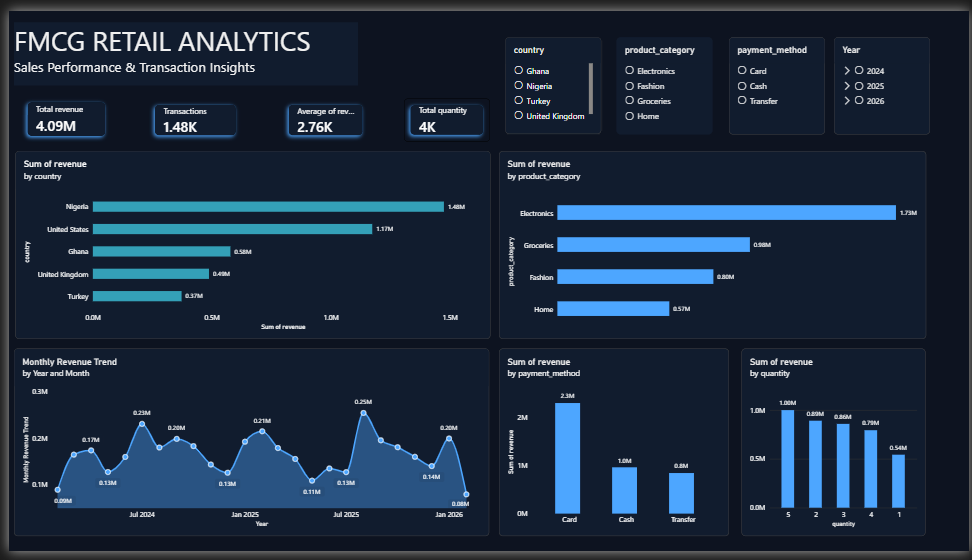

The dashboard page shown, as its layout file describes it:
{"tool":"powerbi","page":{"name":"FMCG Retail Analytics","canvas":[1920,1080],"ordinal":0},"visuals":[{"type":"textbox","box":[10,22,688,126],"z":1000},{"type":"cardVisual","fields":{"Data":["Sum(cleaned_fmcg_dataset.revenue)"]},"box":[24,170,180,92],"z":2000},{"type":"cardVisual","fields":{"Data":["Count(cleaned_fmcg_dataset.transaction_id)"]},"box":[280,176,186,86],"z":3000},{"type":"cardVisual","fields":{"Data":["Avg(cleaned_fmcg_dataset.revenue)"]},"box":[548,176,172,86],"z":4000},{"type":"cardVisual","fields":{"Data":["Sum(cleaned_fmcg_dataset.quantity)"]},"box":[790,176,172,86],"z":5000},{"type":"clusteredBarChart","fields":{"Category":["cleaned_fmcg_dataset.country"],"Y":["Sum(cleaned_fmcg_dataset.revenue)"]},"box":[12,280,950,376],"z":6000},{"type":"clusteredBarChart","fields":{"Category":["cleaned_fmcg_dataset.product_category"],"Y":["Sum(cleaned_fmcg_dataset.revenue)"]},"box":[980,280,854,376],"z":7000},{"type":"clusteredColumnChart","fields":{"Category":["cleaned_fmcg_dataset.payment_method"],"Y":["Sum(cleaned_fmcg_dataset.revenue)"]},"box":[980,674,460,375],"z":9000},{"type":"clusteredColumnChart","fields":{"Category":["cleaned_fmcg_dataset.quantity"],"Y":["Sum(cleaned_fmcg_dataset.revenue)"]},"box":[1466,674,368.3,375],"z":10000},{"type":"listSlicer","fields":{"Values":["cleaned_fmcg_dataset.country"]},"box":[991.7,51.7,192.2,193.3],"z":11000},{"type":"listSlicer","fields":{"Values":["cleaned_fmcg_dataset.transaction_date.Variation.Date Hierarchy.Year","cleaned_fmcg_dataset.transaction_date.Variation.Date Hierarchy.Quarter","cleaned_fmcg_dataset.transaction_date.Variation.Date Hierarchy.Month","cleaned_fmcg_dataset.transaction_date.Variation.Date Hierarchy.Day"]},"box":[1650,51.7,192,194],"z":12000},{"type":"listSlicer","fields":{"Values":["cleaned_fmcg_dataset.payment_method"]},"box":[1440,51.7,192,194],"z":13000},{"type":"listSlicer","fields":{"Values":["cleaned_fmcg_dataset.product_category"]},"box":[1215,51.7,192,194],"z":14000},{"type":"lineChart","fields":{"Category":["cleaned_fmcg_dataset.transaction_date.Variation.Date Hierarchy.Year","cleaned_fmcg_dataset.transaction_date.Variation.Date Hierarchy.Month"],"Y":["Sum(cleaned_fmcg_dataset.revenue)"]},"box":[10,674,950,375],"z":15001}]}

Visuals, with their boxes in screenshot pixels (x1, y1, x2, y2), scaled from the page's 1920x1080 canvas onto the 972x560 screenshot:
textbox: (5,11,353,77)
cardVisual - Sum(cleaned_fmcg_dataset.revenue): (12,88,103,136)
cardVisual - Count(cleaned_fmcg_dataset.transaction_id): (142,91,236,136)
cardVisual - Avg(cleaned_fmcg_dataset.revenue): (277,91,364,136)
cardVisual - Sum(cleaned_fmcg_dataset.quantity): (400,91,487,136)
clusteredBarChart - cleaned_fmcg_dataset.country x Sum(cleaned_fmcg_dataset.revenue): (6,145,487,340)
clusteredBarChart - cleaned_fmcg_dataset.product_category x Sum(cleaned_fmcg_dataset.revenue): (496,145,928,340)
clusteredColumnChart - cleaned_fmcg_dataset.payment_method x Sum(cleaned_fmcg_dataset.revenue): (496,349,729,544)
clusteredColumnChart - cleaned_fmcg_dataset.quantity x Sum(cleaned_fmcg_dataset.revenue): (742,349,929,544)
listSlicer - cleaned_fmcg_dataset.country: (502,27,599,127)
listSlicer - cleaned_fmcg_dataset.transaction_date.Variation.Date Hierarchy.Year x cleaned_fmcg_dataset.transaction_date.Variation.Date Hierarchy.Quarter: (835,27,933,127)
listSlicer - cleaned_fmcg_dataset.payment_method: (729,27,826,127)
listSlicer - cleaned_fmcg_dataset.product_category: (615,27,712,127)
lineChart - cleaned_fmcg_dataset.transaction_date.Variation.Date Hierarchy.Year x cleaned_fmcg_dataset.transaction_date.Variation.Date Hierarchy.Month: (5,349,486,544)
